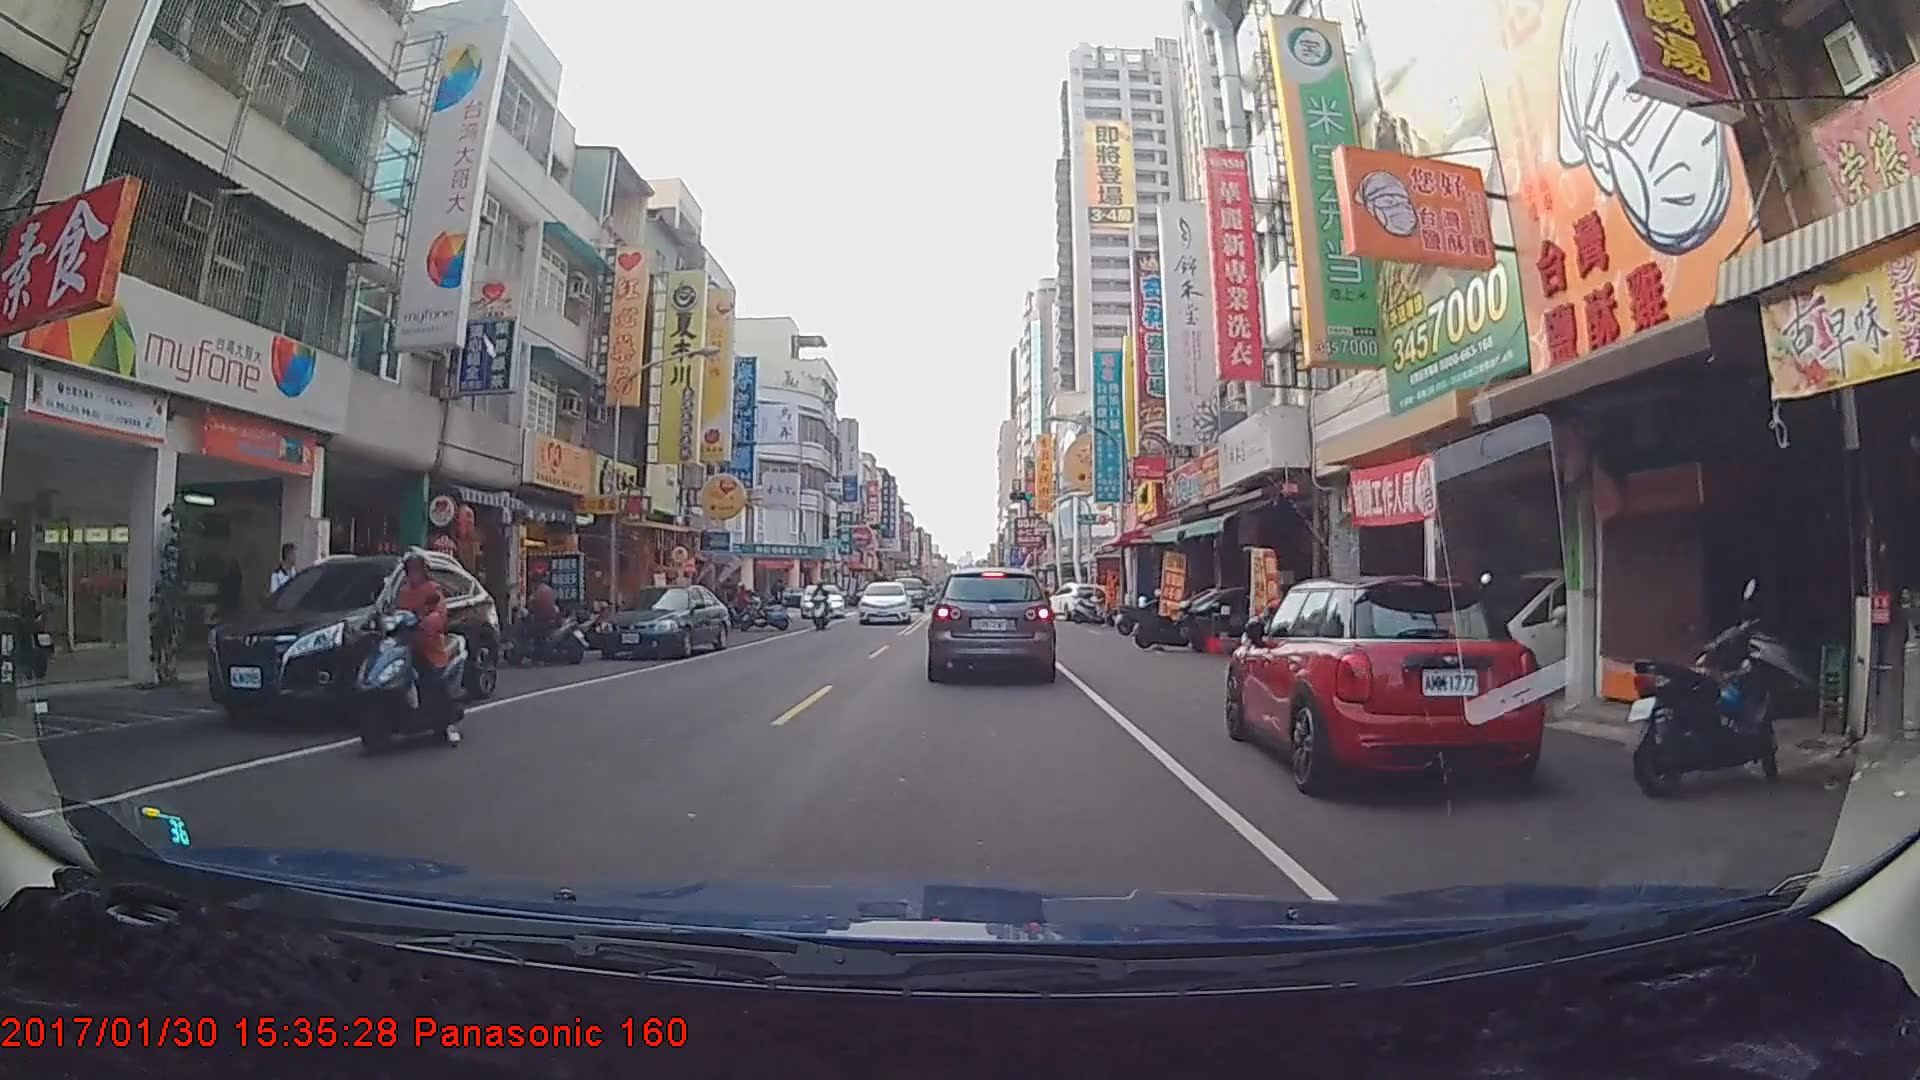rider: (338, 544, 477, 758), (497, 565, 594, 670), (808, 583, 835, 634)
vehicle: (1222, 570, 1544, 792), (204, 550, 502, 732), (929, 564, 1055, 682), (592, 587, 729, 661), (855, 582, 912, 625), (1044, 581, 1105, 622), (799, 583, 845, 619)
